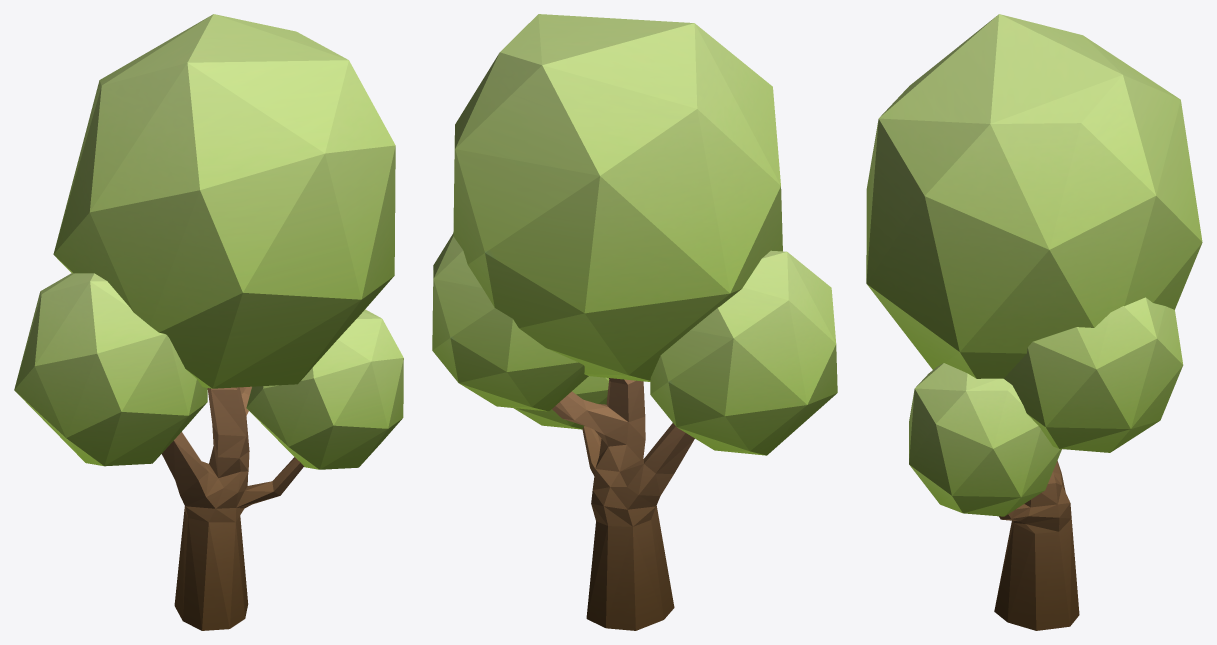
Rendered from ZLP_Plant_I_5.FBX.
3 renders of one model, left to right at view 1: azimuth 30°, elevation 25°; view 2: azimuth 150°, elevation 25°; view 3: azimuth 270°, elevation 25°, orthographic. The views are drawn at different scales.
Parts seen in each view (by area): view 1: ZLP_Plant_I_5; view 2: ZLP_Plant_I_5; view 3: ZLP_Plant_I_5.
Part boxes in pixels (box(x1,y1,x2,y2)): ZLP_Plant_I_5: box(14, 14, 403, 630); ZLP_Plant_I_5: box(432, 14, 837, 630); ZLP_Plant_I_5: box(866, 14, 1202, 630).
Bounding box in the file's own units: 78.18 × 121 × 63.67.
